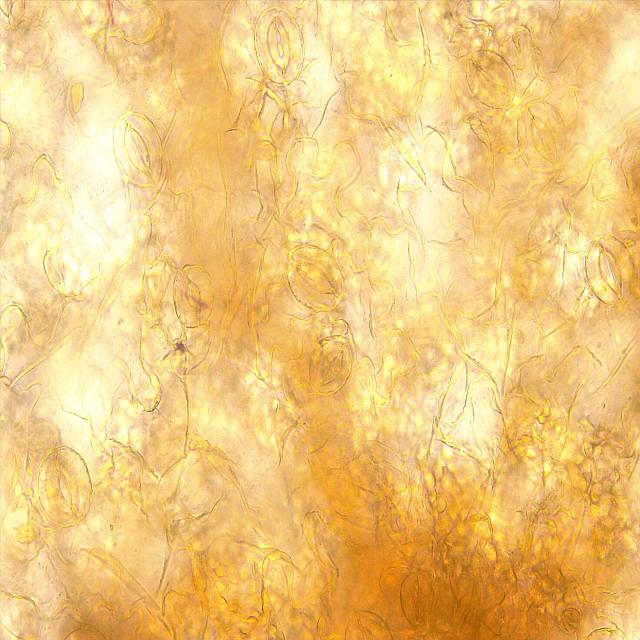Stomata: (37, 444, 93, 528), (286, 243, 346, 313), (112, 110, 164, 190), (584, 234, 635, 309), (255, 7, 304, 85), (516, 99, 567, 172), (465, 49, 517, 108), (171, 263, 215, 329), (307, 334, 353, 397), (400, 571, 435, 629), (344, 608, 395, 640)
